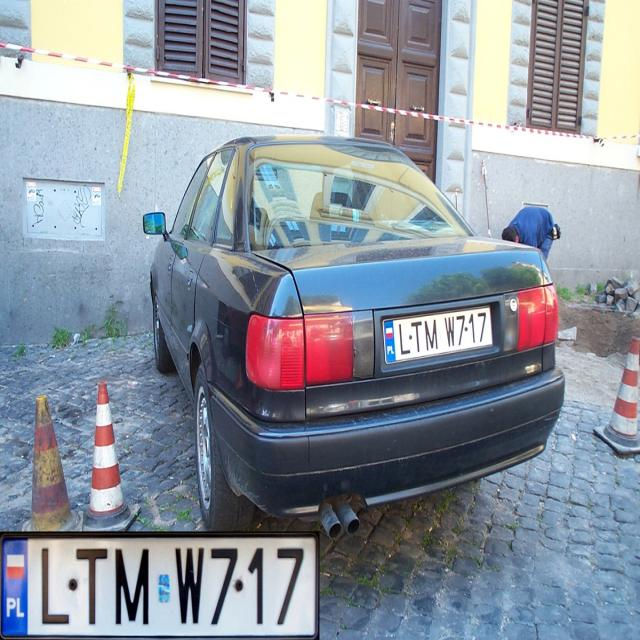pl_license_plate: (2, 536, 316, 638)
